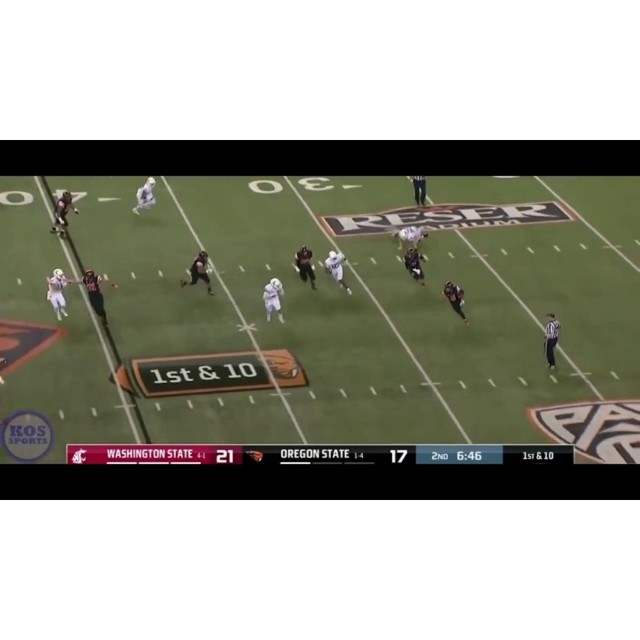american-football-player: (82, 269, 113, 330), (182, 250, 214, 297), (442, 279, 470, 328), (324, 250, 353, 296), (45, 269, 71, 320), (50, 189, 77, 237), (394, 225, 428, 259), (293, 244, 318, 290), (262, 277, 286, 324), (404, 246, 428, 291), (131, 178, 157, 215)
referee: (542, 312, 560, 370), (410, 177, 432, 208)
